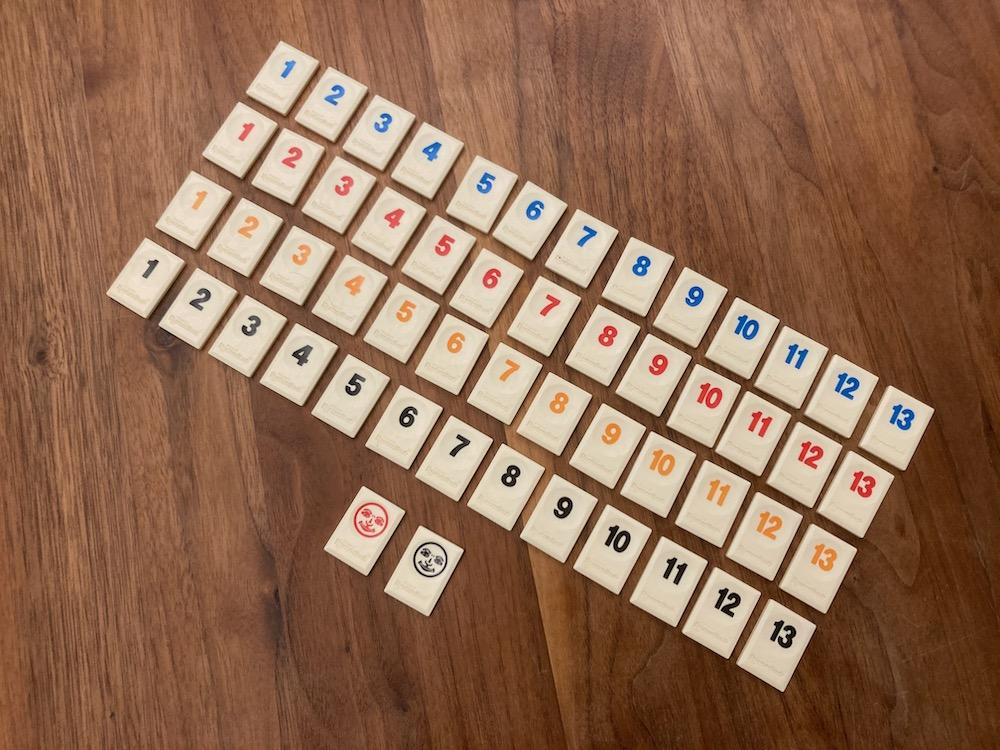black_1: (107, 238, 186, 318)
black_10: (575, 506, 650, 594)
black_11: (631, 538, 707, 627)
black_12: (682, 568, 760, 658)
black_13: (736, 601, 816, 691)
black_2: (160, 268, 236, 350)
black_3: (209, 295, 287, 377)
black_4: (260, 324, 338, 406)
black_5: (312, 355, 389, 438)
black_6: (366, 385, 443, 469)
black_7: (416, 416, 492, 500)
black_8: (467, 443, 545, 529)
black_9: (522, 475, 598, 562)
blue_1: (246, 41, 318, 115)
blue_10: (705, 299, 779, 379)
blue_11: (754, 326, 828, 408)
blue_12: (805, 355, 879, 438)
blue_13: (859, 387, 934, 471)
blue_2: (295, 68, 367, 141)
blue_3: (344, 96, 414, 170)
blue_4: (393, 123, 463, 199)
blue_5: (447, 156, 518, 232)
blue_6: (494, 182, 568, 260)
blue_7: (545, 209, 617, 287)
blue_8: (602, 238, 674, 316)
blue_9: (654, 268, 727, 348)
joker: (324, 486, 404, 574), (385, 525, 463, 615)
orange_1: (157, 172, 232, 250)
orange_10: (621, 432, 695, 518)
orange_11: (676, 461, 750, 547)
orange_12: (727, 492, 803, 580)
orange_13: (779, 525, 857, 613)
orange_2: (209, 199, 283, 277)
orange_3: (260, 227, 334, 305)
orange_4: (313, 256, 387, 334)
orange_5: (363, 283, 439, 363)
orange_6: (416, 314, 488, 395)
orange_7: (469, 344, 541, 424)
orange_8: (518, 373, 592, 455)
orange_9: (570, 404, 645, 488)
red_1: (203, 102, 277, 178)
red_10: (668, 365, 740, 447)
red_11: (715, 391, 791, 475)
red_12: (770, 422, 842, 508)
red_13: (818, 451, 893, 537)
red_2: (252, 129, 324, 205)
red_3: (305, 156, 375, 232)
red_4: (353, 188, 426, 266)
red_5: (402, 217, 477, 295)
red_6: (449, 248, 523, 328)
red_7: (508, 277, 580, 355)
red_8: (566, 305, 639, 385)
red_9: (615, 334, 691, 416)
